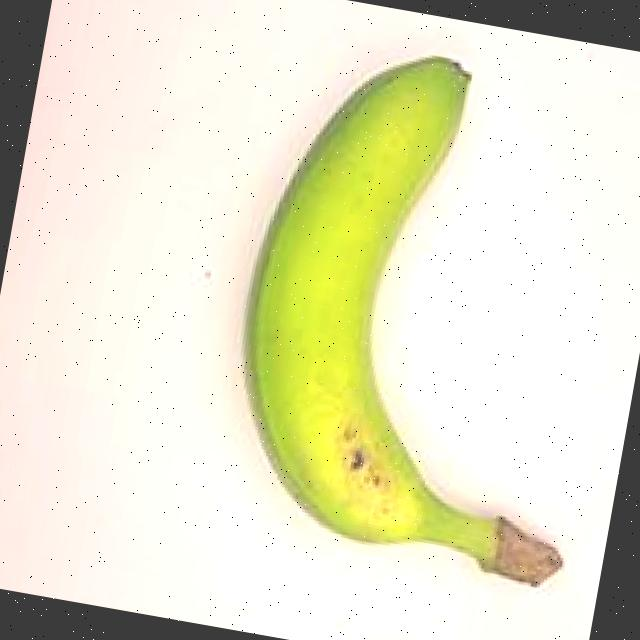Unripe: (187, 0, 640, 624)
